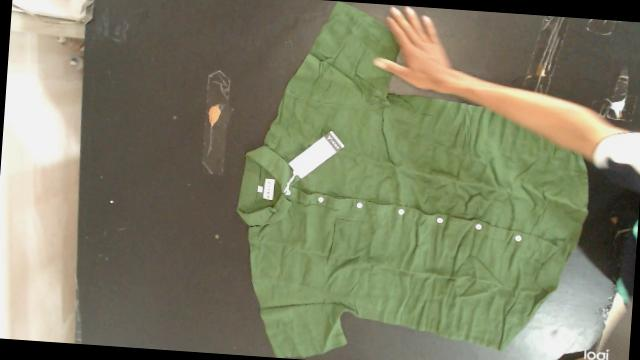new-garment: (237, 2, 587, 357)
